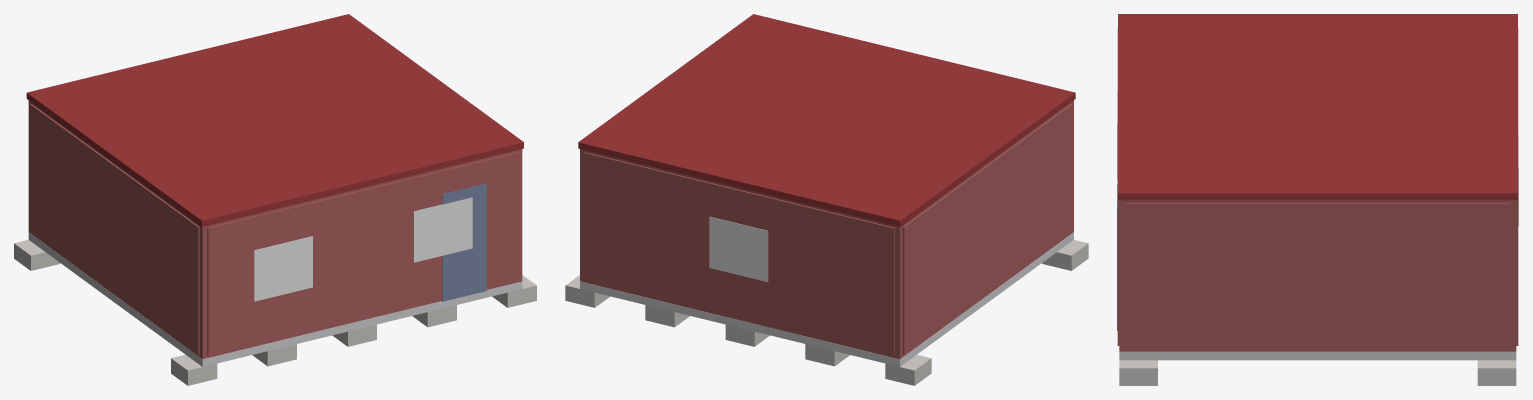
File: Studio-20-Base-MaroonRed-LOD3.glb
3 views of the same model, side by side, from view 1: azimuth 30°, elevation 25°; view 2: azimuth 150°, elevation 25°; view 3: azimuth 270°, elevation 25° (orthographic). The views are drawn at different scales.
Visible parts, largest first — view 1: RoofMain, ExteriorPanelsStandard, WindowsStandard, FoundationBlocks, ExteriorShell, BaseFrame, EntryDoor; view 2: ExteriorPanelsStandard, RoofMain, FoundationBlocks, BaseFrame, ExteriorShell, WindowsStandard; view 3: RoofMain, ExteriorPanelsStandard, ExteriorShell, BaseFrame, FoundationBlocks.
Part boxes in pixels (x1,y1,x2,y2): RoofMain: (26,14,523,226); ExteriorPanelsStandard: (30,104,518,355); WindowsStandard: (254,197,472,301); FoundationBlocks: (14,240,536,385); ExteriorShell: (28,100,522,359); BaseFrame: (28,232,522,366); EntryDoor: (441,183,486,301); ExteriorPanelsStandard: (584,104,1072,355); RoofMain: (578,14,1075,226); FoundationBlocks: (565,240,1088,385); BaseFrame: (580,232,1073,366); ExteriorShell: (580,100,1073,359); WindowsStandard: (709,216,768,281); RoofMain: (1118,14,1517,200); ExteriorPanelsStandard: (1117,28,1518,349); ExteriorShell: (1119,200,1516,351); BaseFrame: (1119,351,1516,360); FoundationBlocks: (1119,360,1516,385).
Bounding box in the file's own units: 7.14 × 3.17 × 6.24.
